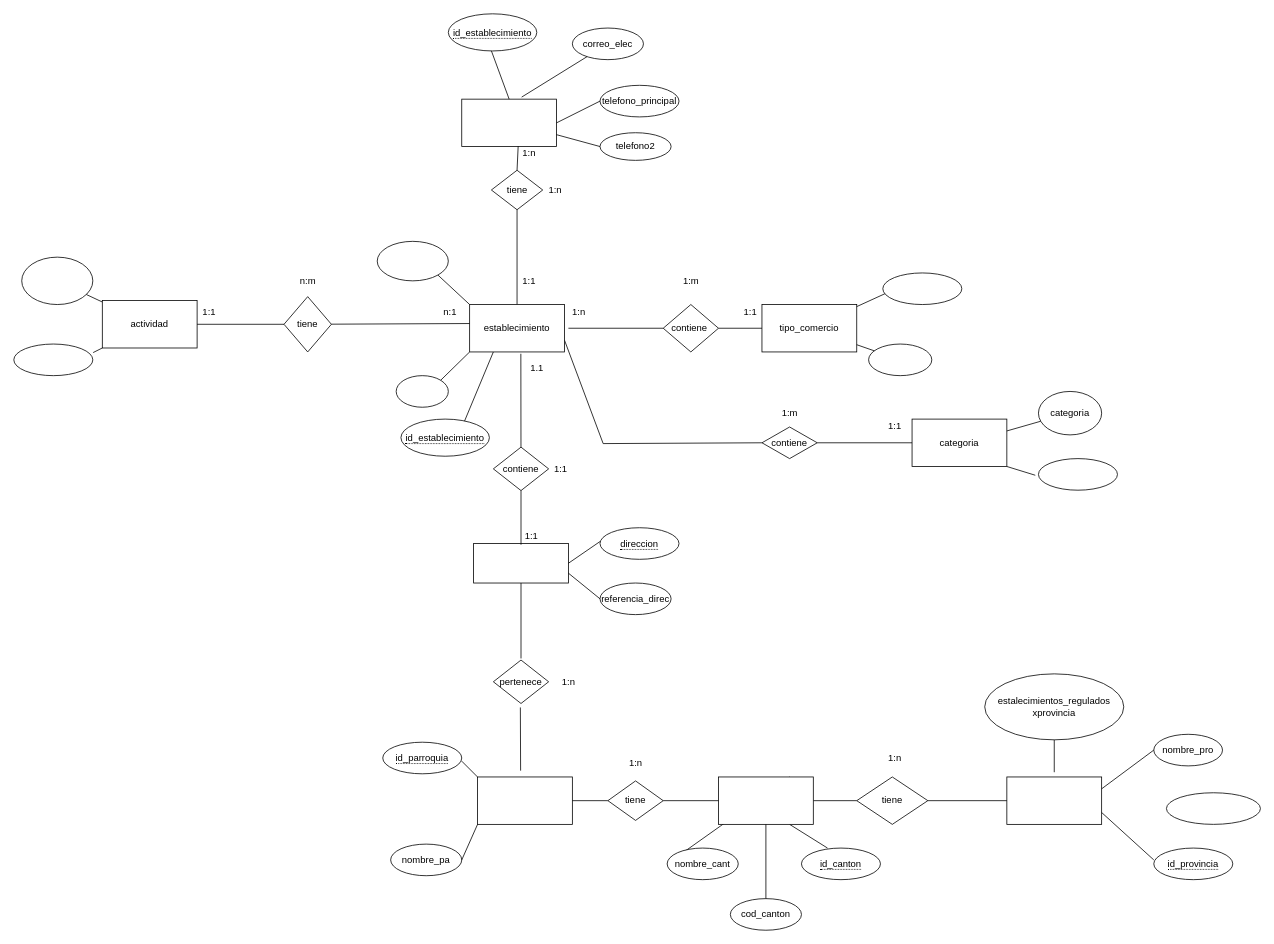
Some shapes in this 1274 by 944 pixel diagram are drawn without their labels. The box of each missing label's shape, as (x1, y1, x2, y2) in pixels:
Canton: (718, 776, 813, 824)
Clasificacion: (868, 343, 932, 376)
contacto: (461, 98, 557, 147)
Direccion_web: (376, 241, 448, 281)
id_actividad: (13, 343, 93, 376)
id_categoria: (1038, 458, 1117, 490)
id_comercio: (882, 272, 962, 305)
nom_actividad: (21, 256, 93, 305)
nombre: (395, 375, 448, 407)
parroquias: (477, 776, 572, 824)
Provincia: (1006, 776, 1102, 824)
ubicacion: (473, 543, 568, 583)
ventas_generadas: (1166, 792, 1260, 824)
